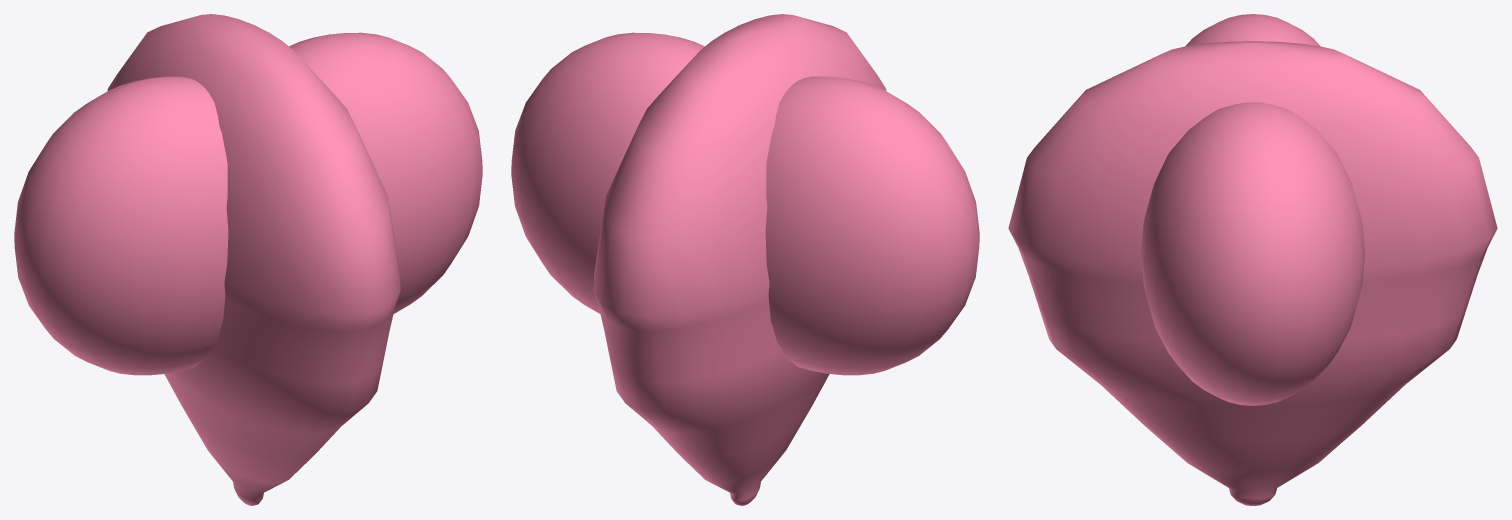
File: icon_need_love.glb
The picture shows the model from 3 angles, left to right: view 1: azimuth 30°, elevation 25°; view 2: azimuth 150°, elevation 25°; view 3: azimuth 270°, elevation 25°; orthographic projection.
Visible parts, largest first — view 1: icon_need_love; view 2: icon_need_love; view 3: icon_need_love.
Part boxes in pixels (x1,y1,x2,y2): icon_need_love: [14, 14, 482, 505]; icon_need_love: [511, 14, 979, 505]; icon_need_love: [1008, 14, 1497, 505].
Size of the model in its own units: 0.6 by 0.6 by 0.576.
